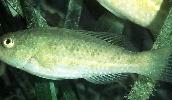Scaridae -Parrotfishes-: (0, 21, 172, 92)
